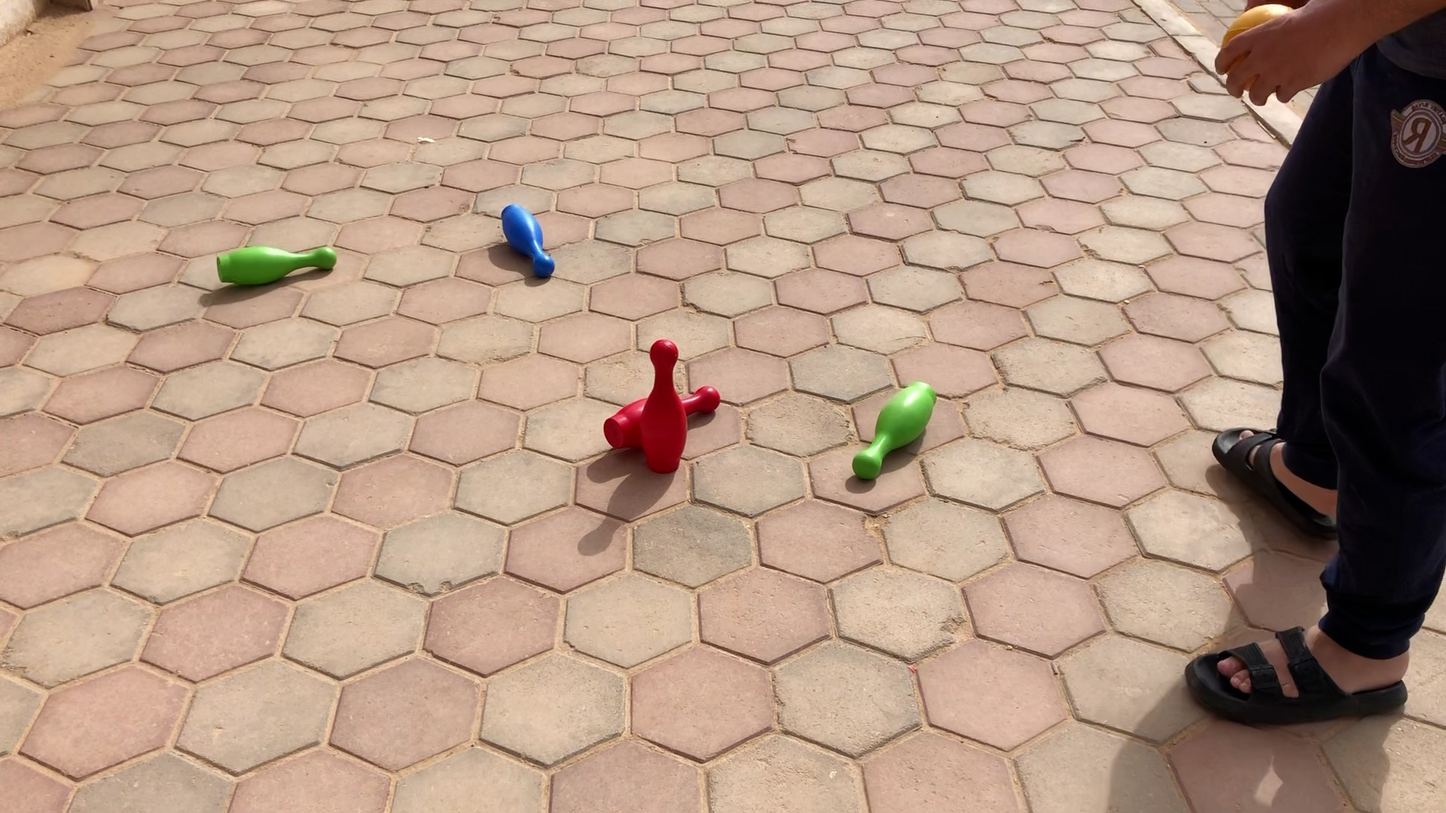bowling-pin: (611, 342, 690, 473), (853, 385, 932, 478), (213, 245, 334, 288), (502, 206, 558, 279)
